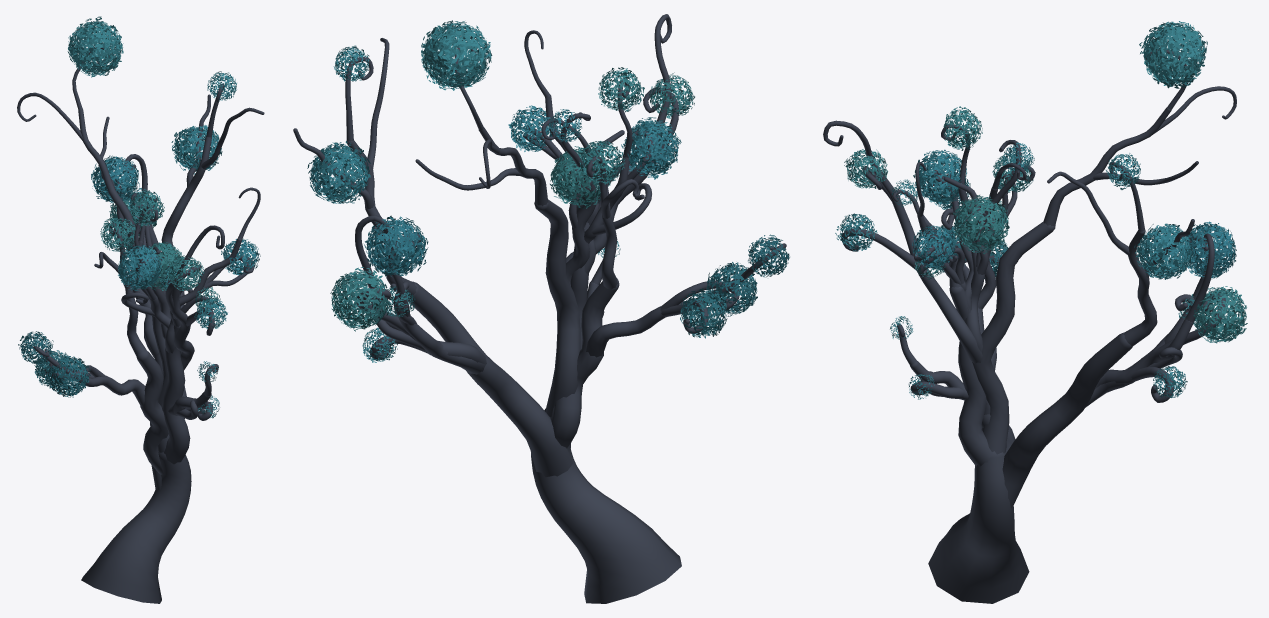
The model's file is spooky-1759.glb.
The picture shows the model from 3 angles, left to right: view 1: azimuth 30°, elevation 25°; view 2: azimuth 150°, elevation 25°; view 3: azimuth 270°, elevation 25°; orthographic projection. The views are drawn at different scales.
Parts seen in each view (by area): view 1: wood, leaves; view 2: wood, leaves; view 3: wood, leaves.
Boxes of the visible parts, x1=… form: wood: x1=17, y1=47, x2=264, y2=603; leaves: x1=18, y1=16, x2=260, y2=418; wood: x1=293, y1=14, x2=786, y2=603; leaves: x1=307, y1=20, x2=789, y2=362; wood: x1=823, y1=49, x2=1236, y2=603; leaves: x1=835, y1=21, x2=1247, y2=399.
Bounding box in the file's own units: 5.19 × 8.51 × 5.53.
Materials: 2 (1 with a texture image).
